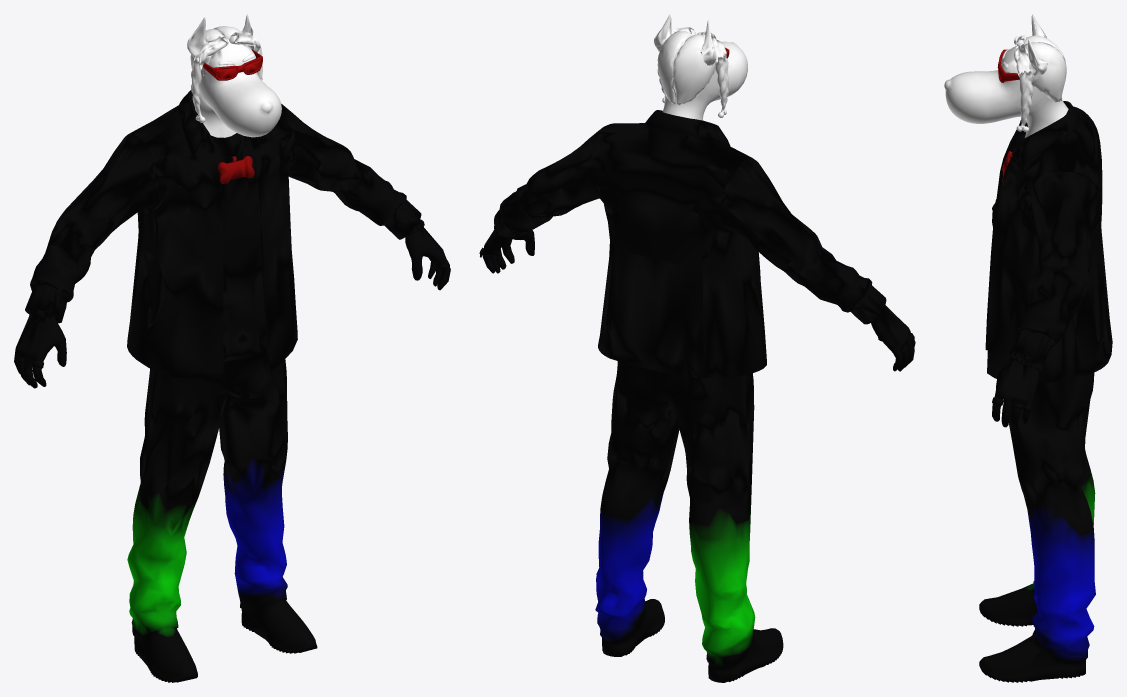
Rendered from snoop_dog_but_dog_style.fbx.
3 renders of one model, left to right at view 1: azimuth 30°, elevation 25°; view 2: azimuth 150°, elevation 25°; view 3: azimuth 270°, elevation 25°, orthographic. The views are drawn at different scales.
Parts seen in each view (by area): view 1: Character; view 2: Character; view 3: Character.
Boxes of the visible parts, x1,y1,x2,y2 form: Character: (14, 14, 450, 682); Character: (479, 14, 915, 682); Character: (944, 14, 1112, 682).
Bounding box in the file's own units: 126 × 180 × 44.03.
